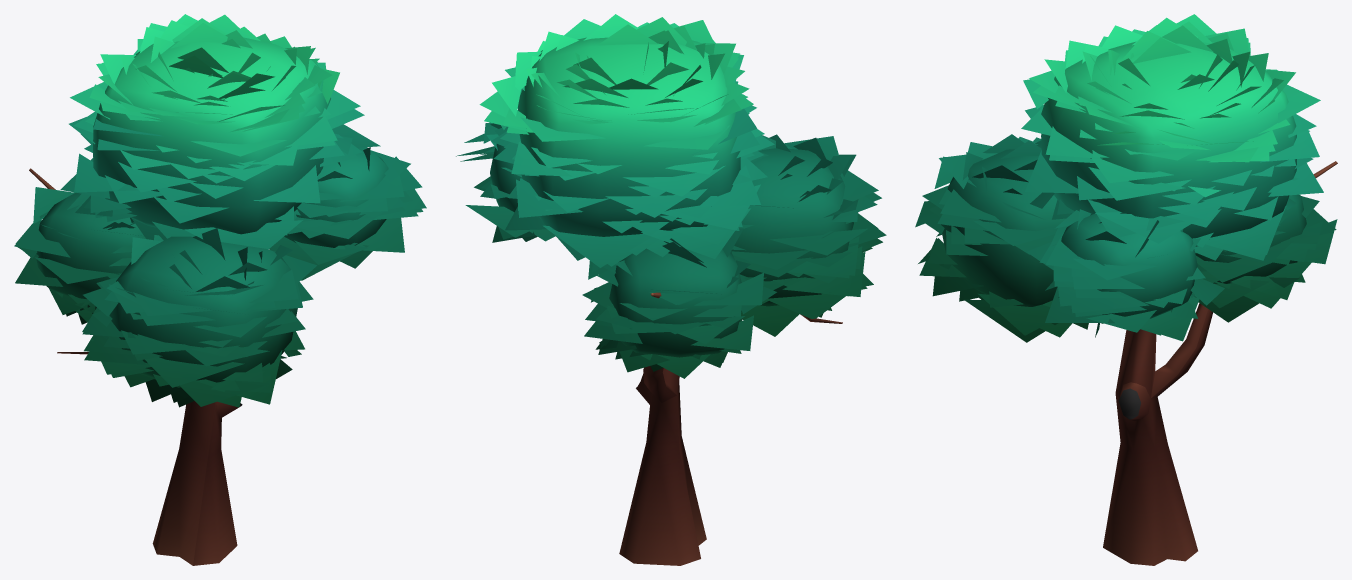
File: Tree_7D.fbx
The picture shows the model from 3 angles, left to right: view 1: azimuth 30°, elevation 25°; view 2: azimuth 150°, elevation 25°; view 3: azimuth 270°, elevation 25°; orthographic projection. The views are drawn at different scales.
Visible parts, largest first — view 1: Tree_7D; view 2: Tree_7D; view 3: Tree_7D.
Part boxes in pixels (x1,y1,x2,y2): Tree_7D: [14, 14, 426, 565]; Tree_7D: [456, 14, 886, 565]; Tree_7D: [915, 14, 1337, 565].
Size of the model in its own units: 431 by 565 by 420.
